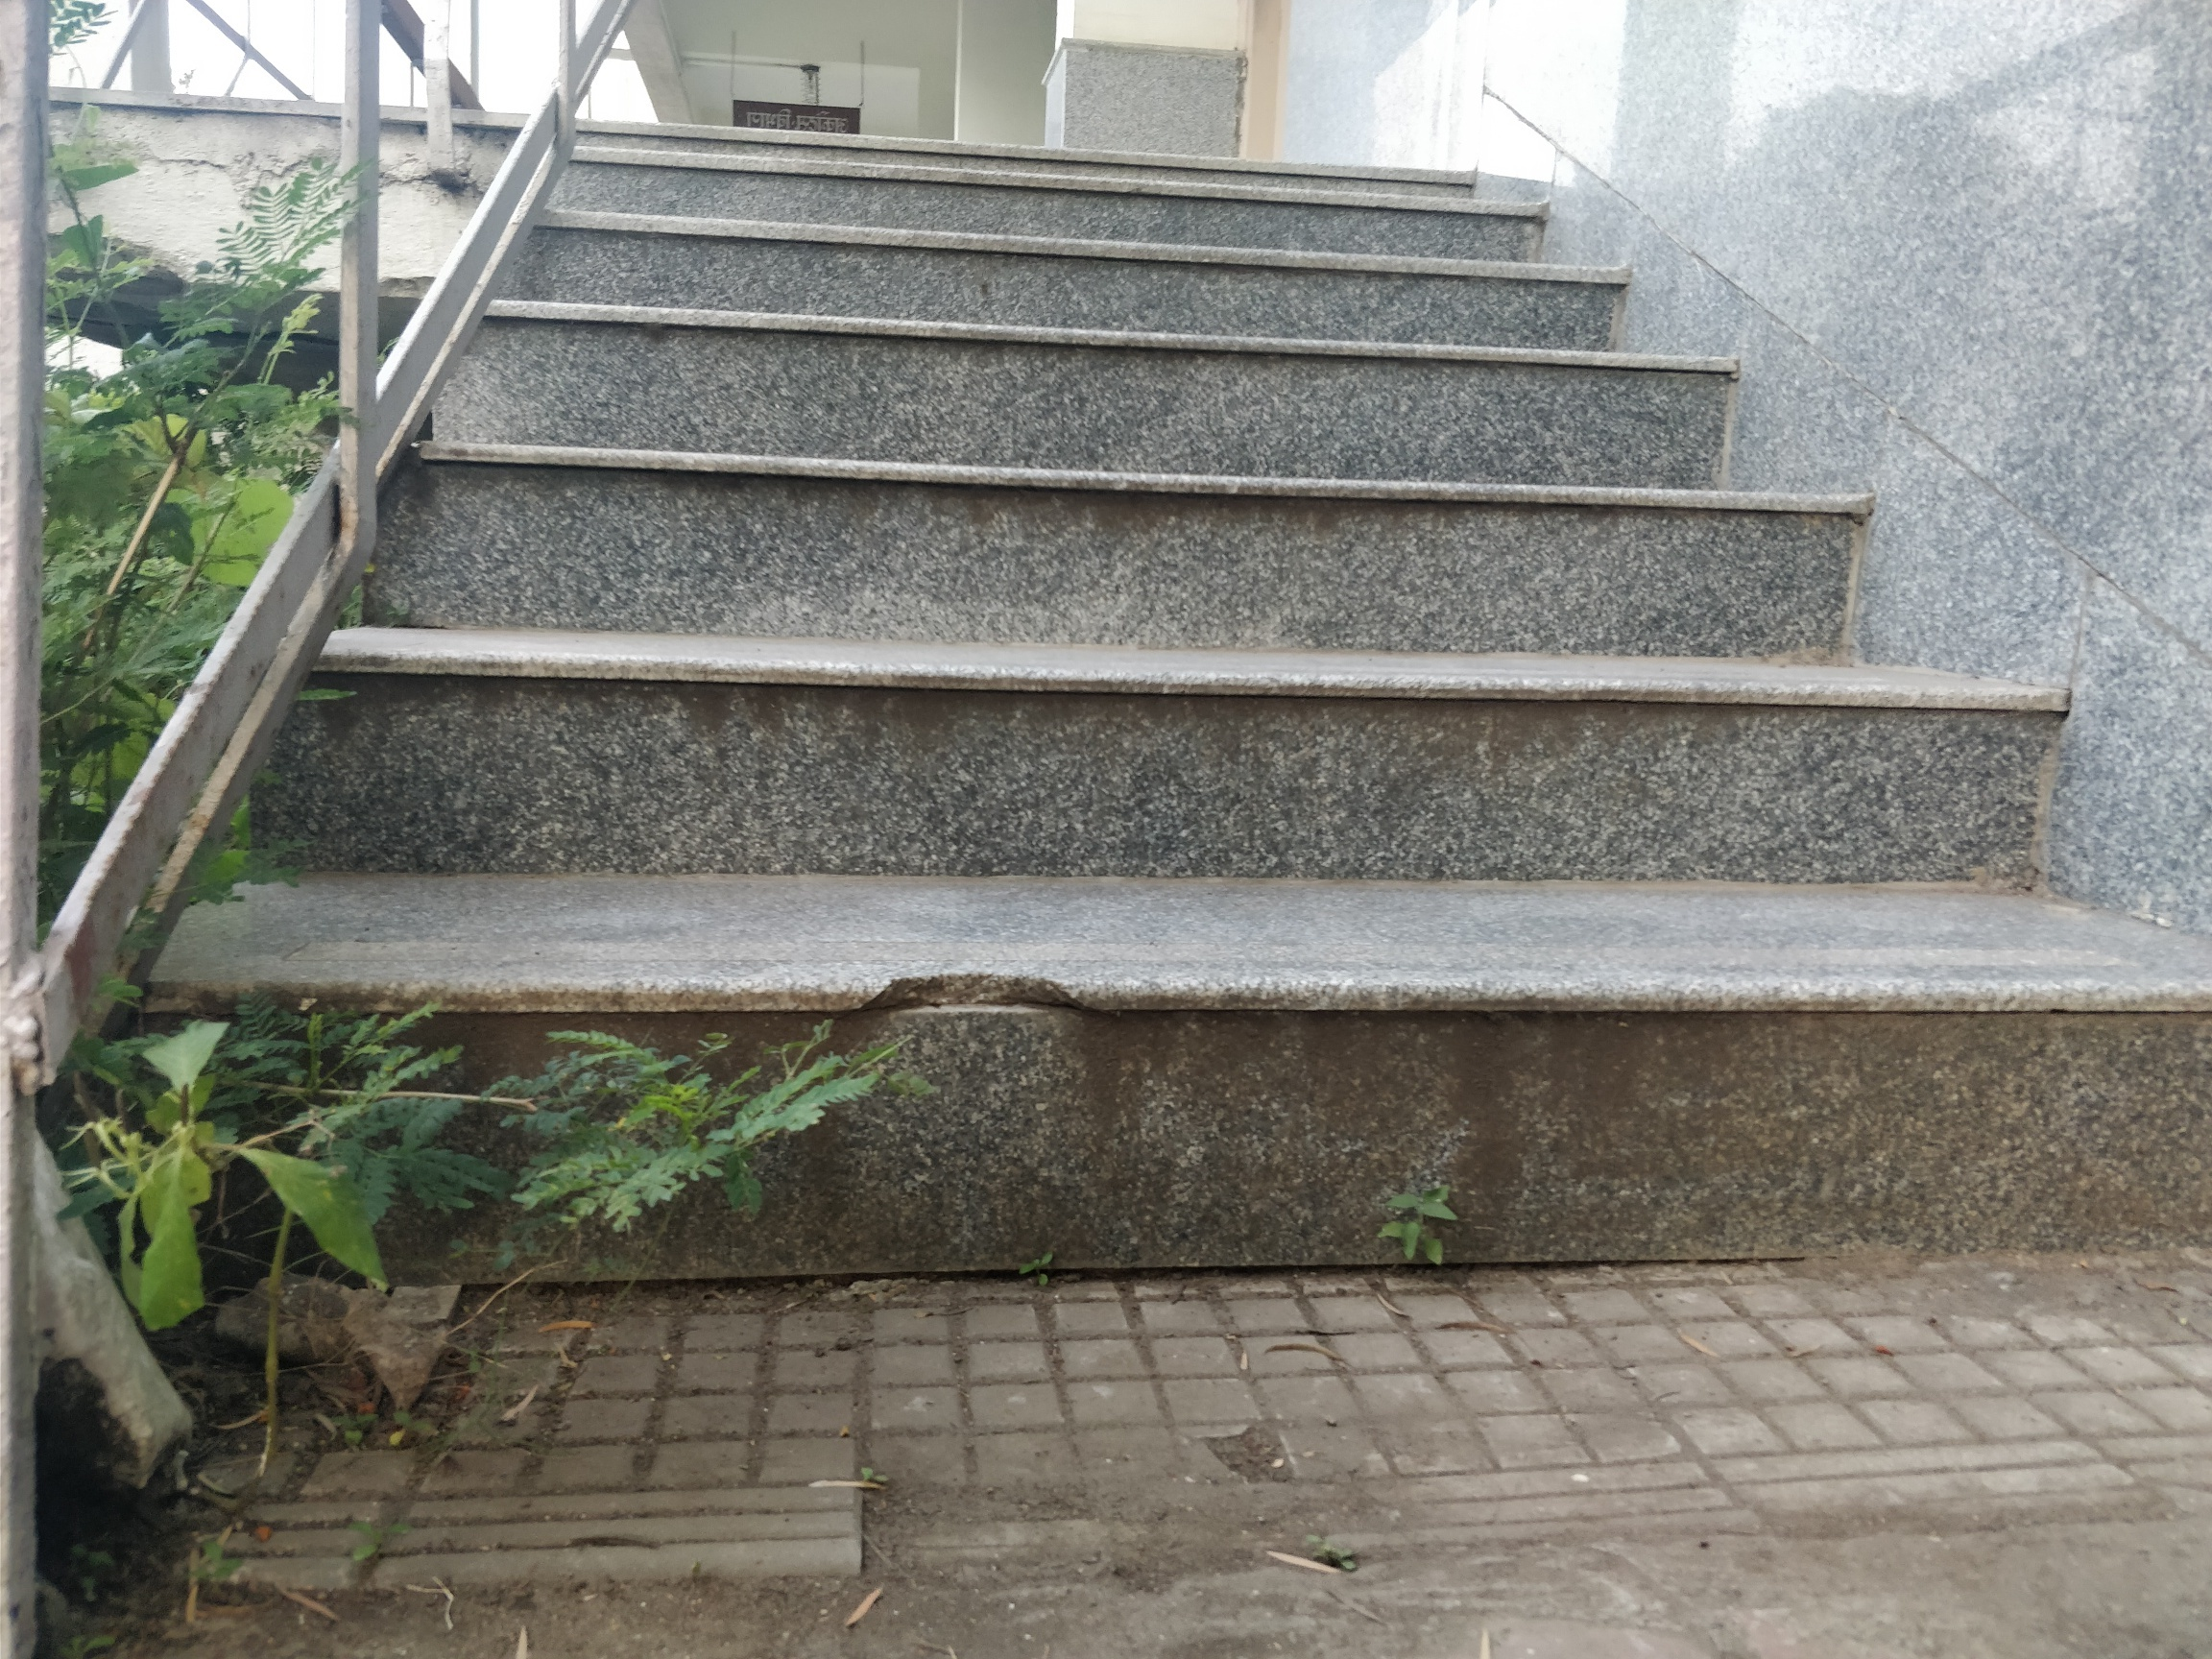stairs_up: (320, 115, 2165, 1342)
